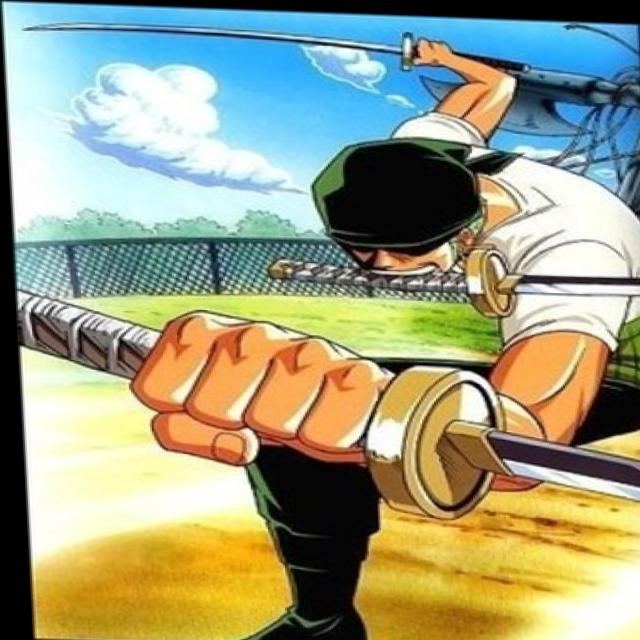Zoro: (275, 114, 568, 309)
